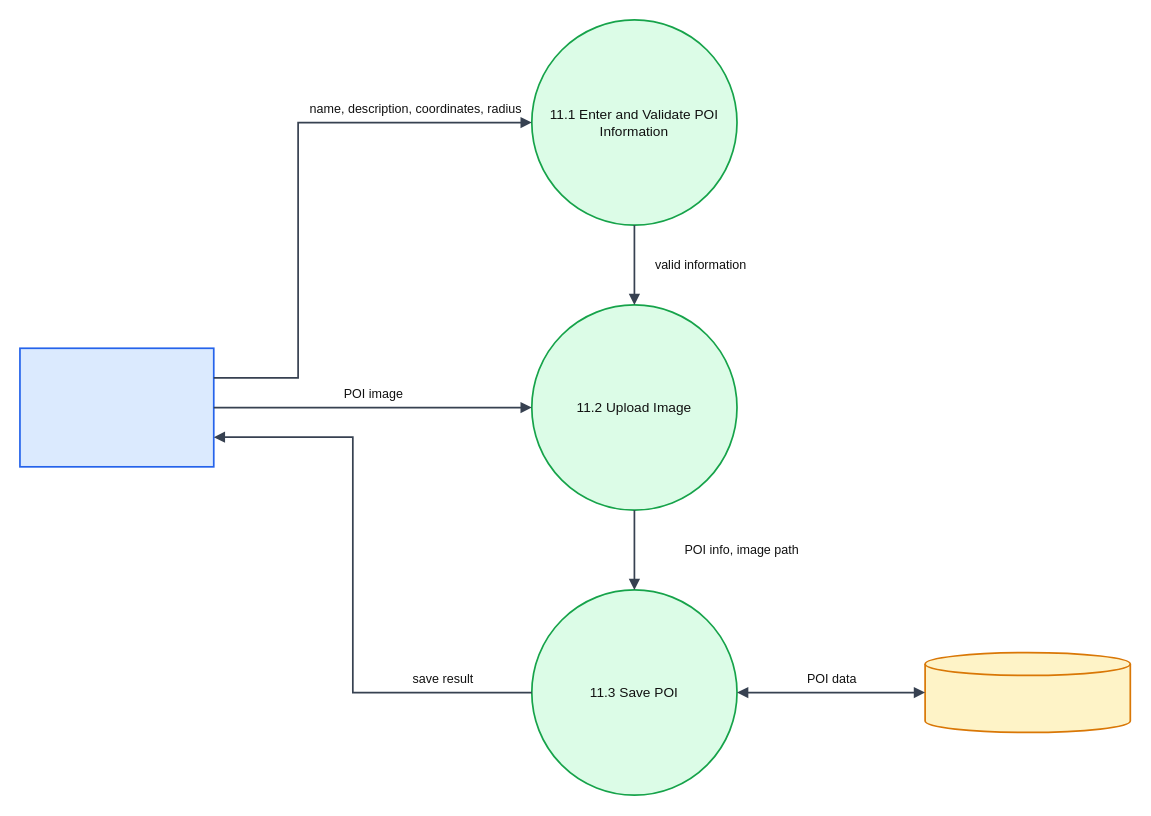
This 1151x816 diagram has some shape labels left out. Here are the shapes that lost their labels. From the top down, the box of each, then its label:
(19, 347, 214, 467): Administrator
(924, 651, 1131, 733): D1 POI
